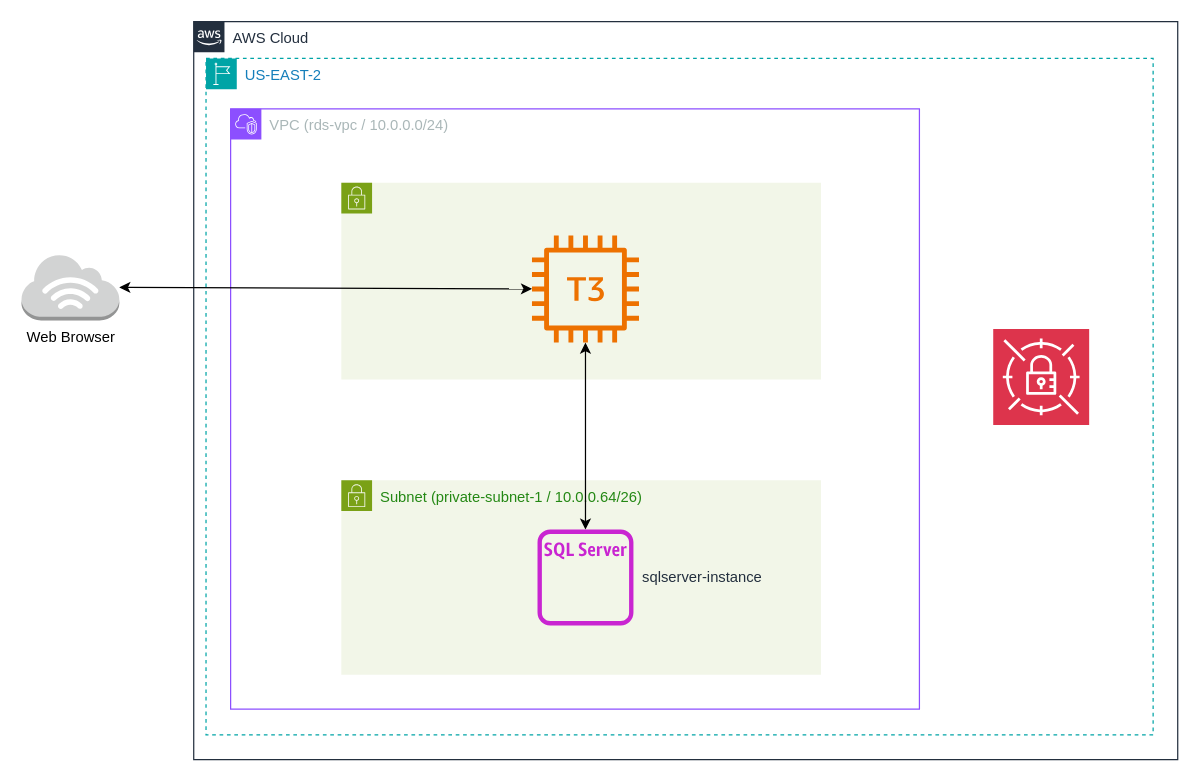
Image size: 1199x781. Some labels were removed from this diagram. The box of each missing label's shape, as (x1, y1, x2, y2) in pixels:
adminer: (531, 235, 638, 342)
sqlserver-credentials: (992, 328, 1089, 425)
Subnet (rds-subnet-1 / 10.0.0.0/26): (340, 181, 821, 379)
